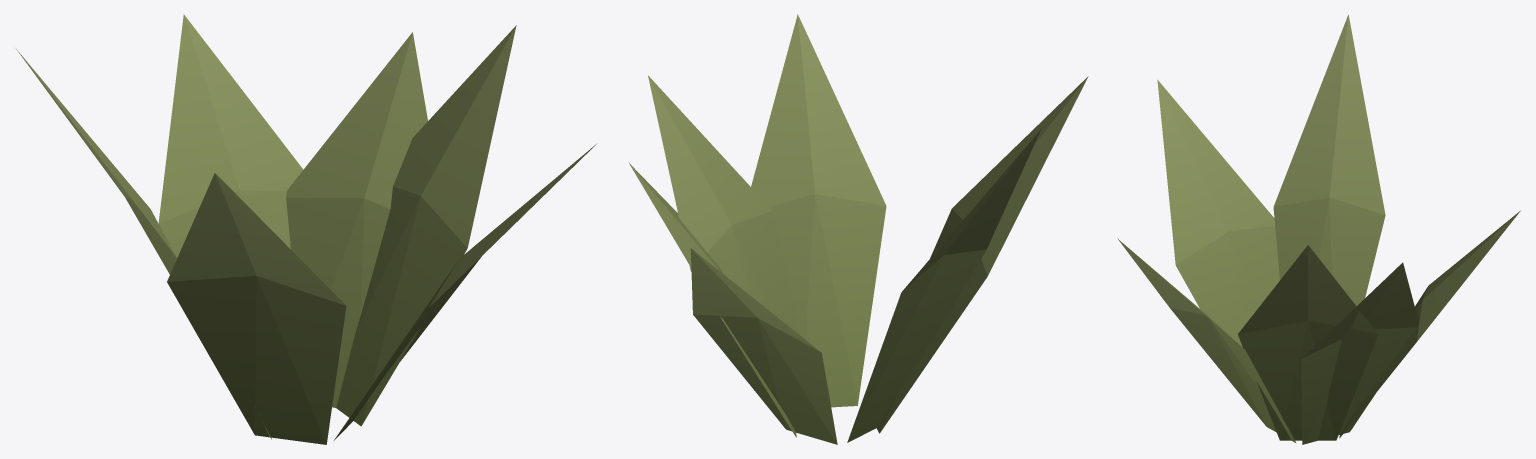
File: alc_grass_tuft.glb
The picture shows the model from 3 angles, left to right: view 1: azimuth 30°, elevation 25°; view 2: azimuth 150°, elevation 25°; view 3: azimuth 270°, elevation 25°; orthographic projection. The views are drawn at different scales.
Visible parts, largest first — view 1: alc_grass_tuft; view 2: alc_grass_tuft; view 3: alc_grass_tuft.
Boxes of the visible parts, box(x1,y1,x2,y2) form: alc_grass_tuft: box(16, 14, 597, 444); alc_grass_tuft: box(629, 14, 1088, 444); alc_grass_tuft: box(1117, 14, 1520, 444).
Size of the model in its own units: 0.4944 by 0.4176 by 0.4844.
